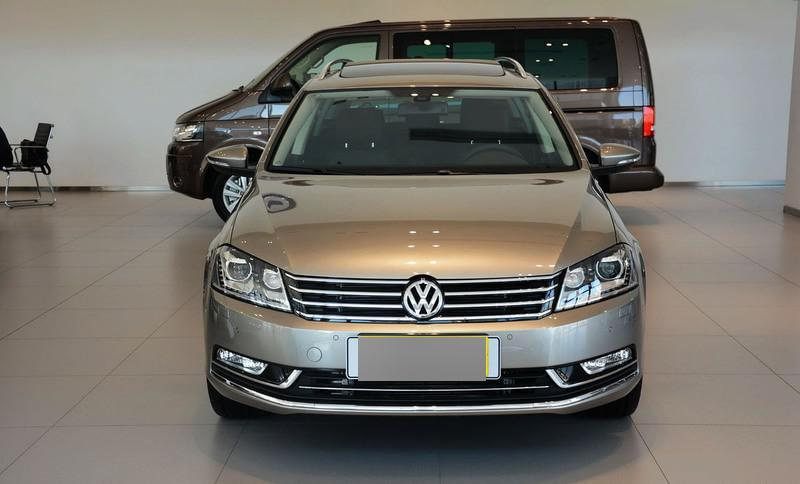Wagon: (201, 55, 650, 420)
